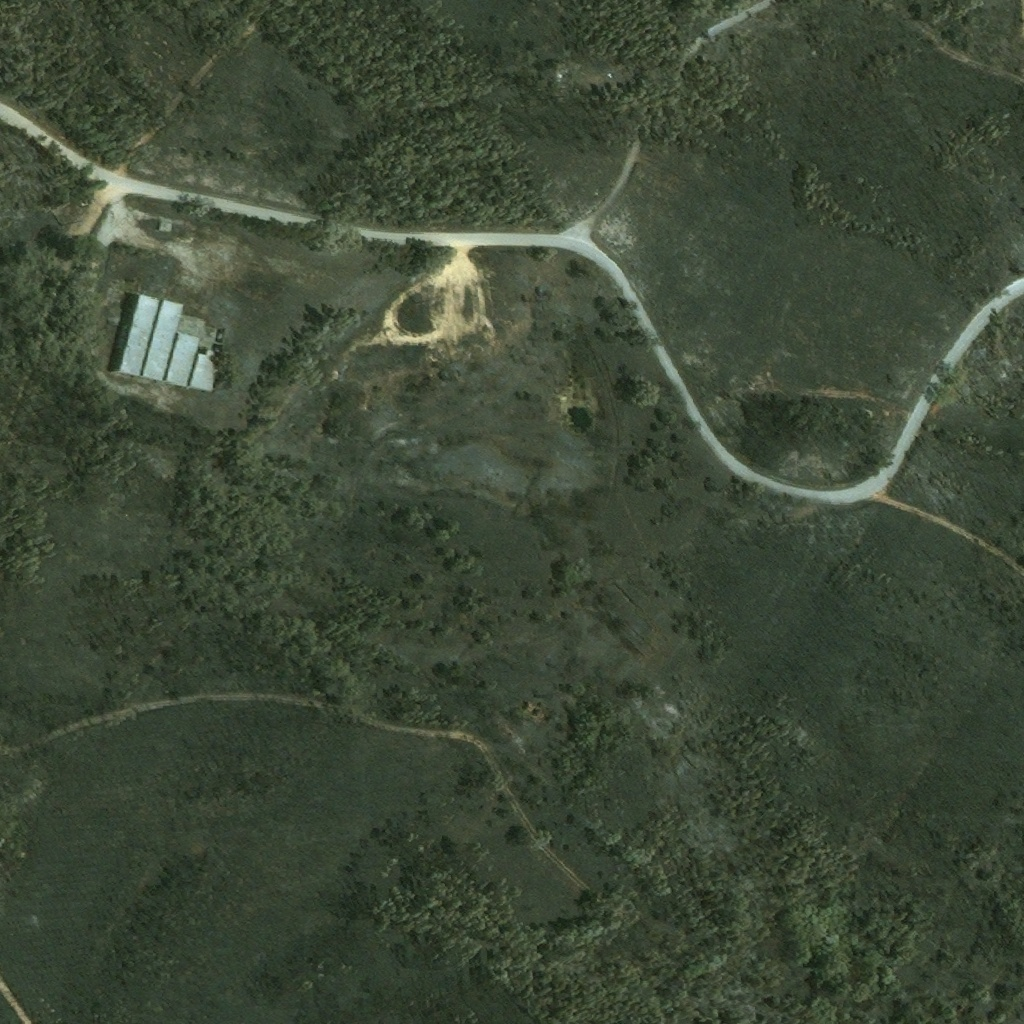0 no-damage: (110, 290, 160, 376), (138, 298, 185, 382), (162, 331, 199, 387), (188, 345, 226, 394)
